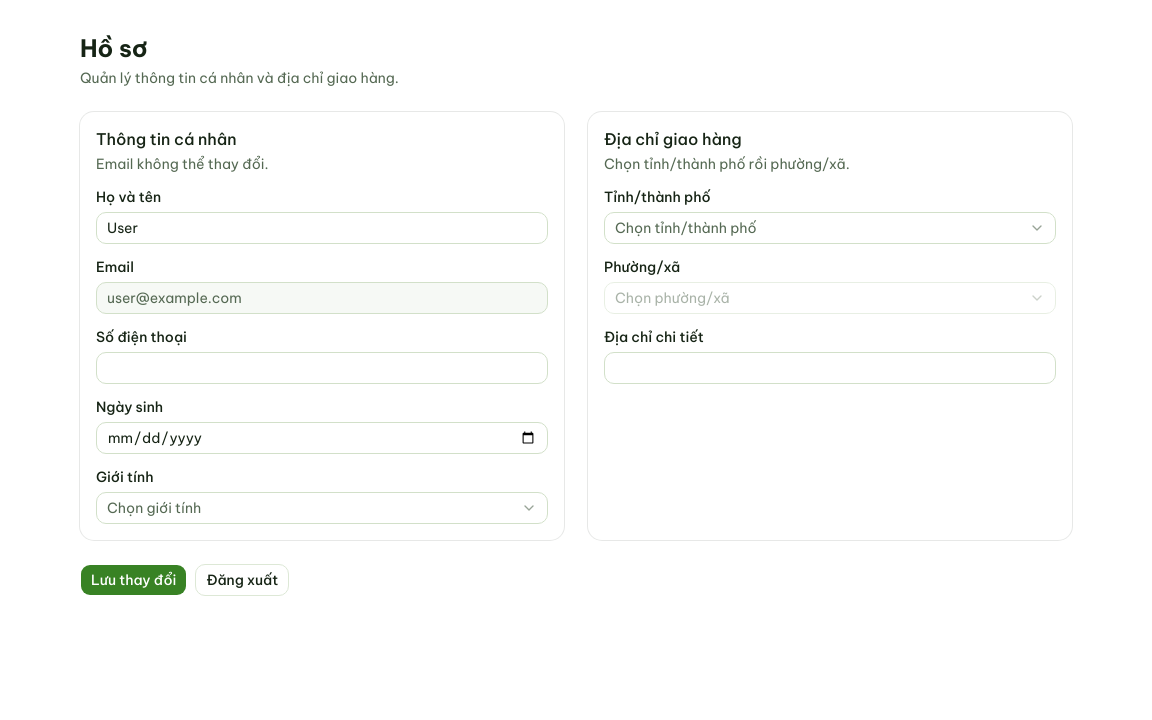
Test: reports a province loading failure and retries
Click the button labelled "Chọn tỉnh/thành phố" at (686, 228), box 604,212 -> 1056,244
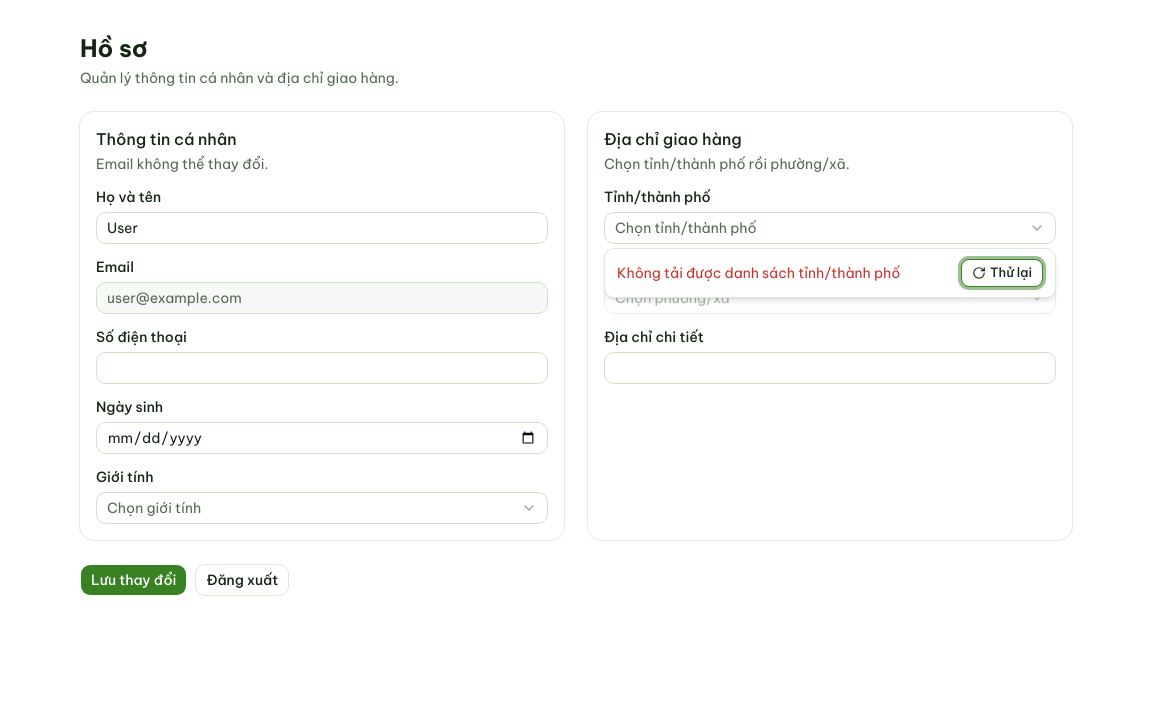
Expected: the text "Không tải được danh sách tỉnh/thành phố" is shown, 617,263 -> 900,283
Click the button "Thử lại" at (1002, 273), box 961,259 -> 1043,287
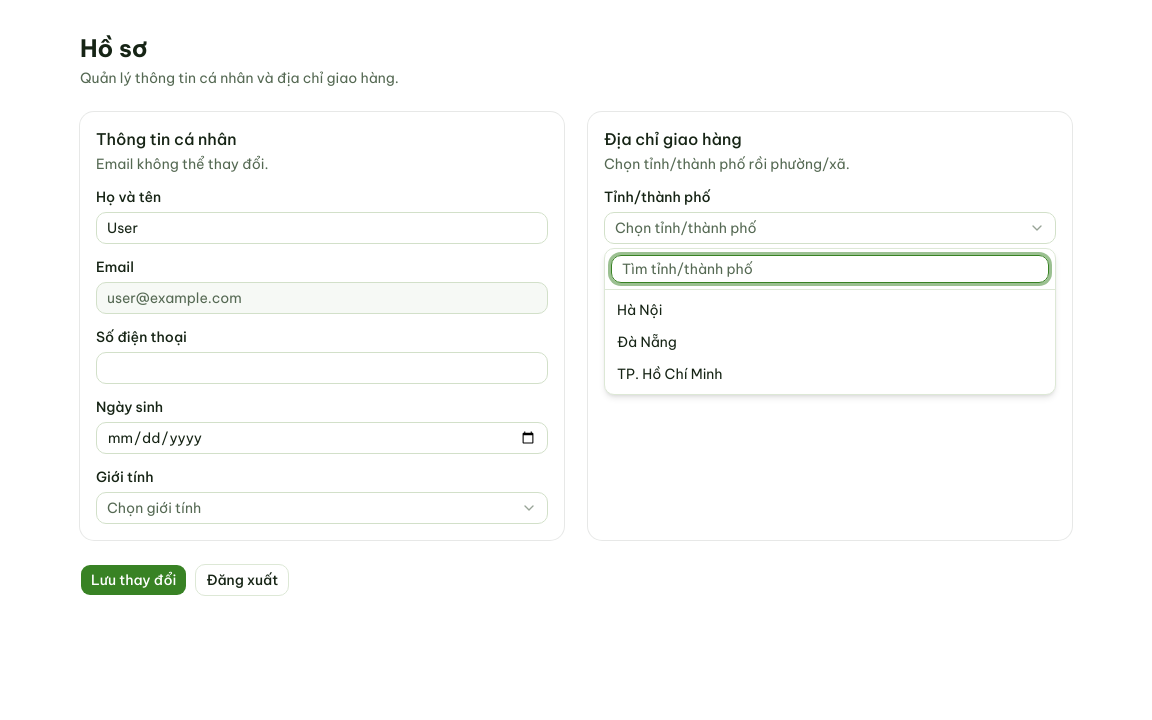
Expected: the button labelled "Chọn phường/xã" is disabled, 604,282 -> 1056,314
Expected: the option "TP. Hồ Chí Minh" is shown, 609,358 -> 1051,390
